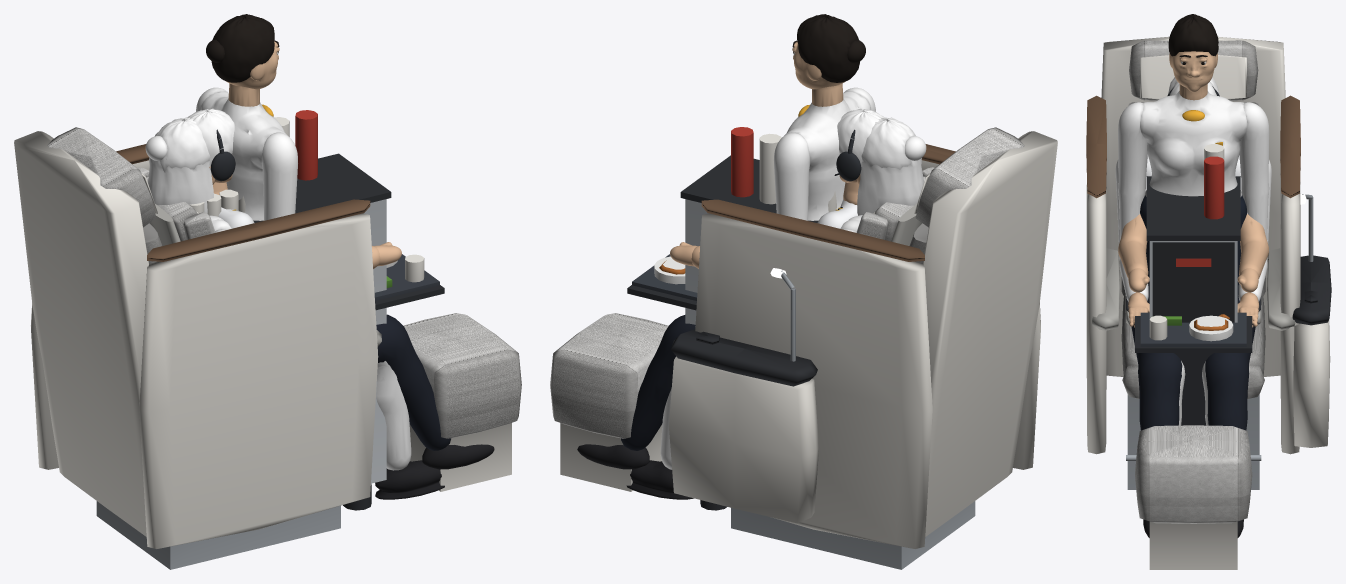
The model's file is cabin-protos.glb.
The picture shows the model from 3 angles, left to right: view 1: azimuth 30°, elevation 25°; view 2: azimuth 150°, elevation 25°; view 3: azimuth 270°, elevation 25°; orthographic projection. The views are drawn at different scales.
Parts seen in each view (by area): view 1: Proto_SeatJ, Proto_Crew, Proto_Cart, Proto_Pilot, Proto_PaxHead, Proto_Pax, Proto_CrewArmR, Proto_Tray, Proto_PilotHead, Proto_SeatY, Proto_PaxF; view 2: Proto_SeatJ, Proto_Crew, Proto_Cart, Proto_Pilot, Proto_PaxHead, Proto_CrewArmL, Proto_PilotHead, Proto_Tray, Proto_SeatY, Proto_Pax; view 3: Proto_SeatJ, Proto_Cart, Proto_Crew, Proto_Pilot, Proto_Tray, Proto_CrewArmL, Proto_CrewArmR, Proto_PilotArmL, Proto_PilotArmR, Proto_PaxFArmL, Proto_PaxFArmR, Proto_SeatY.
Part boxes in pixels (<box>): Proto_SeatJ: <box>14,127,521,569</box>; Proto_Crew: <box>200,14,287,220</box>; Proto_Cart: <box>169,110,391,510</box>; Proto_Pilot: <box>218,207,494,469</box>; Proto_PaxHead: <box>145,117,214,213</box>; Proto_Pax: <box>211,219,444,499</box>; Proto_CrewArmR: <box>261,132,297,220</box>; Proto_Tray: <box>374,254,444,310</box>; Proto_PilotHead: <box>187,108,235,194</box>; Proto_SeatY: <box>137,167,215,245</box>; Proto_PaxF: <box>210,215,410,470</box>; Proto_SeatJ: <box>550,127,1057,569</box>; Proto_Crew: <box>784,14,870,220</box>; Proto_Cart: <box>680,127,836,510</box>; Proto_Pilot: <box>577,199,857,469</box>; Proto_PaxHead: <box>857,117,926,215</box>; Proto_CrewArmL: <box>773,132,810,220</box>; Proto_PilotHead: <box>834,108,884,204</box>; Proto_Tray: <box>627,254,697,310</box>; Proto_SeatY: <box>856,167,934,245</box>; Proto_Pax: <box>626,219,860,499</box>; Proto_SeatJ: <box>1086,36,1331,569</box>; Proto_Cart: <box>1146,144,1240,425</box>; Proto_Crew: <box>1140,14,1247,297</box>; Proto_Pilot: <box>1131,155,1255,537</box>; Proto_Tray: <box>1135,312,1252,352</box>; Proto_CrewArmL: <box>1239,102,1269,239</box>; Proto_CrewArmR: <box>1118,102,1147,240</box>; Proto_PilotArmL: <box>1237,177,1268,292</box>; Proto_PilotArmR: <box>1118,177,1149,292</box>; Proto_PaxFArmL: <box>1237,260,1267,327</box>; Proto_PaxFArmR: <box>1119,260,1149,327</box>; Proto_SeatY: <box>1125,294,1261,460</box>.
Size of the model in its own units: 1.54 by 1.69 by 0.8354.
Materials: 42 (3 with a texture image).
